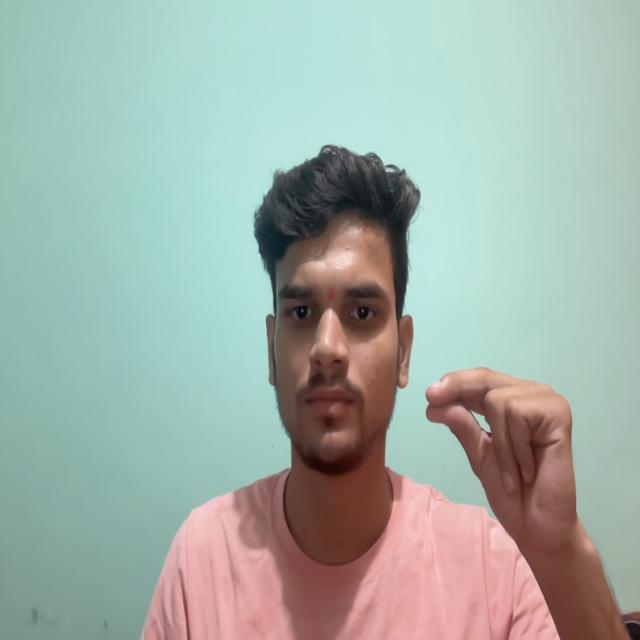No: (416, 351, 604, 609)
